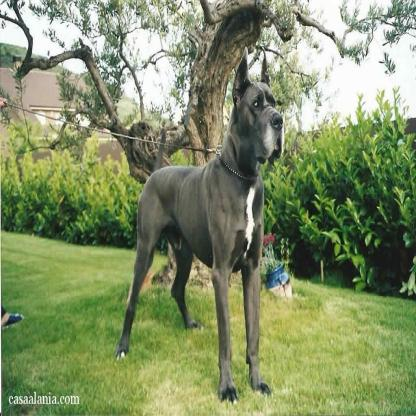Great_Dane: (113, 46, 283, 402)
